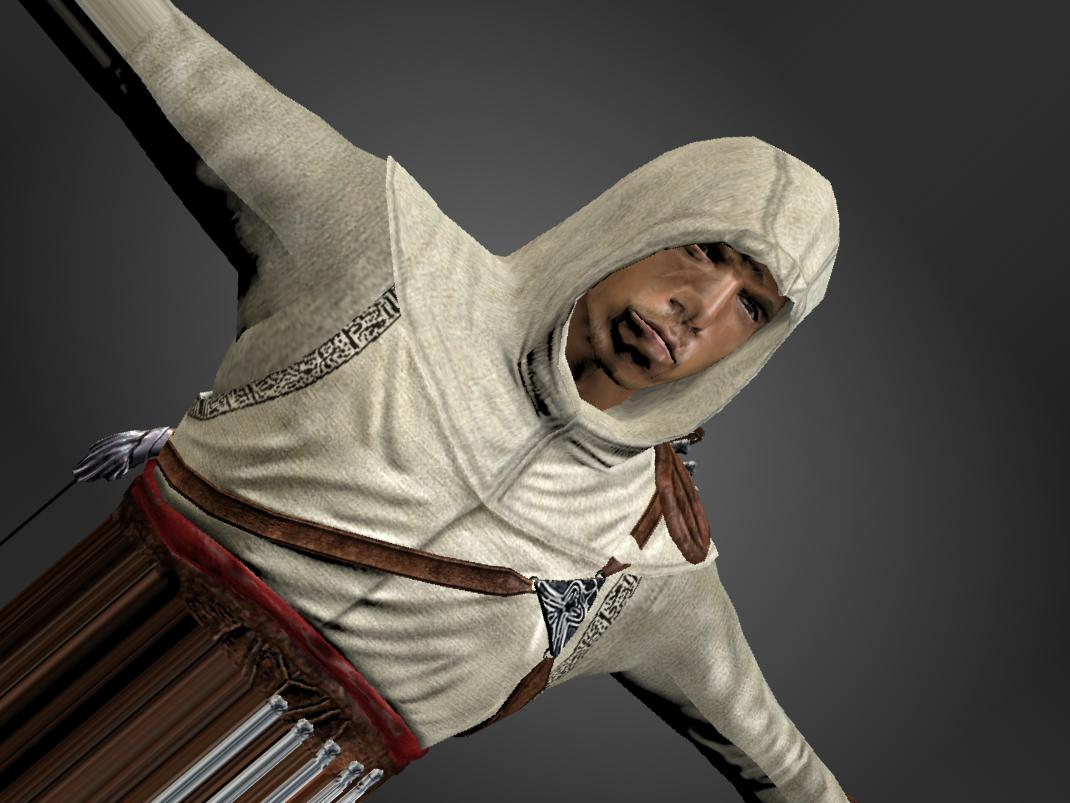clip: (613, 525, 649, 574)
